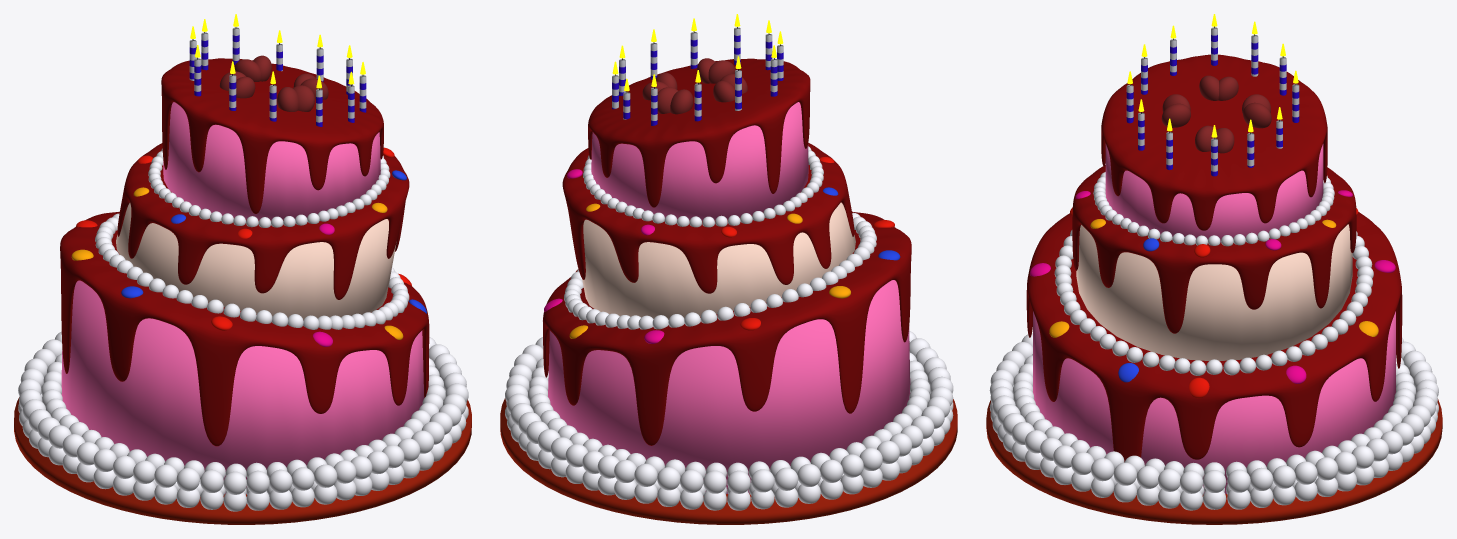
File: cake.glb
3 renders of one model, left to right at view 1: azimuth 30°, elevation 25°; view 2: azimuth 150°, elevation 25°; view 3: azimuth 270°, elevation 25°, orthographic.
Visible parts, largest first — view 1: first, Topping1.002, Topping1, second, third, Topping1.001, base; view 2: first, Topping1.002, Topping1, second, Topping1.001, third, base; view 3: Topping1.002, Topping1, second, first, Topping1.001, base, third, Sphere.373, Sphere.370.
Boxes of the visible parts, x1,y1,x2,y2 form: first: (61,280,424,493); Topping1.002: (60,211,429,446); Topping1: (161,58,383,213); second: (116,203,396,319); third: (163,102,380,220); Topping1.001: (117,143,409,299); base: (14,397,471,524); first: (548,280,910,493); Topping1.002: (543,211,911,445); Topping1: (588,58,810,207); second: (582,202,855,319); Topping1.001: (562,143,854,293); third: (591,102,808,220); base: (500,398,957,524); Topping1.002: (1026,212,1402,462); Topping1: (1101,54,1327,230); second: (1076,224,1352,360); first: (1033,311,1395,493); Topping1.001: (1072,165,1356,333); base: (986,399,1442,524); third: (1105,144,1323,242); Sphere.373: (1243,102,1271,128); Sphere.370: (1161,103,1190,127).
Bounding box in the file's own units: 200 × 190 × 200.
